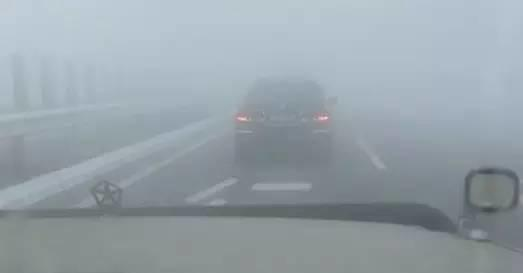car: (233, 74, 341, 160)
